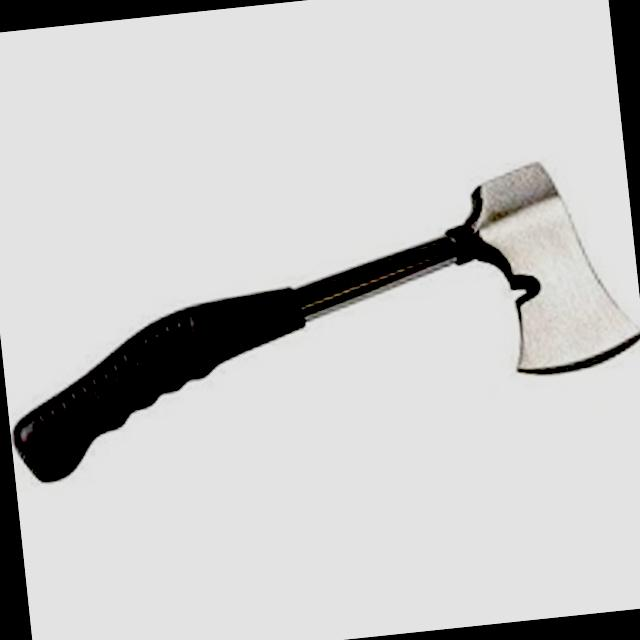ax: (0, 142, 640, 502)
